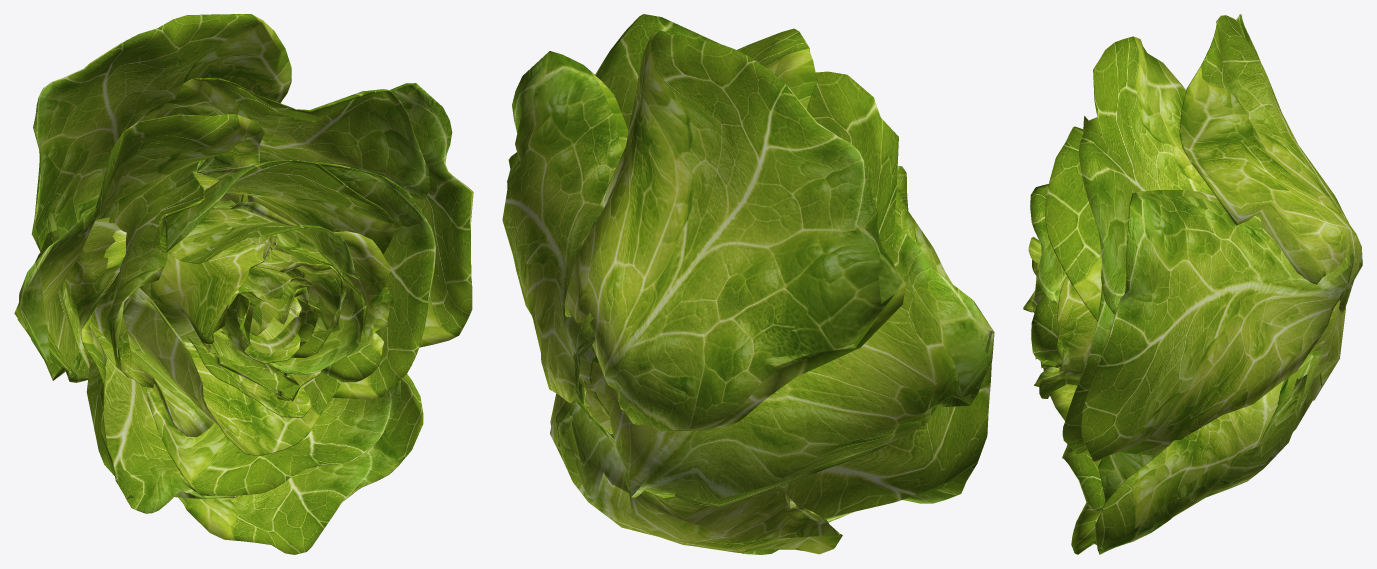
The model's file is lattuga2.obj.
3 renders of one model, left to right at view 1: azimuth 30°, elevation 25°; view 2: azimuth 150°, elevation 25°; view 3: azimuth 270°, elevation 25°, orthographic. The views are drawn at different scales.
Parts seen in each view (by area): view 1: plant_Plane.108; view 2: plant_Plane.108; view 3: plant_Plane.108.
Part boxes in pixels (box(x1,y1,x2,y2)): plant_Plane.108: box(14, 14, 473, 554); plant_Plane.108: box(502, 14, 994, 554); plant_Plane.108: box(1023, 14, 1362, 554).
Size of the model in its own units: 0.3897 by 0.4273 by 0.2626.
